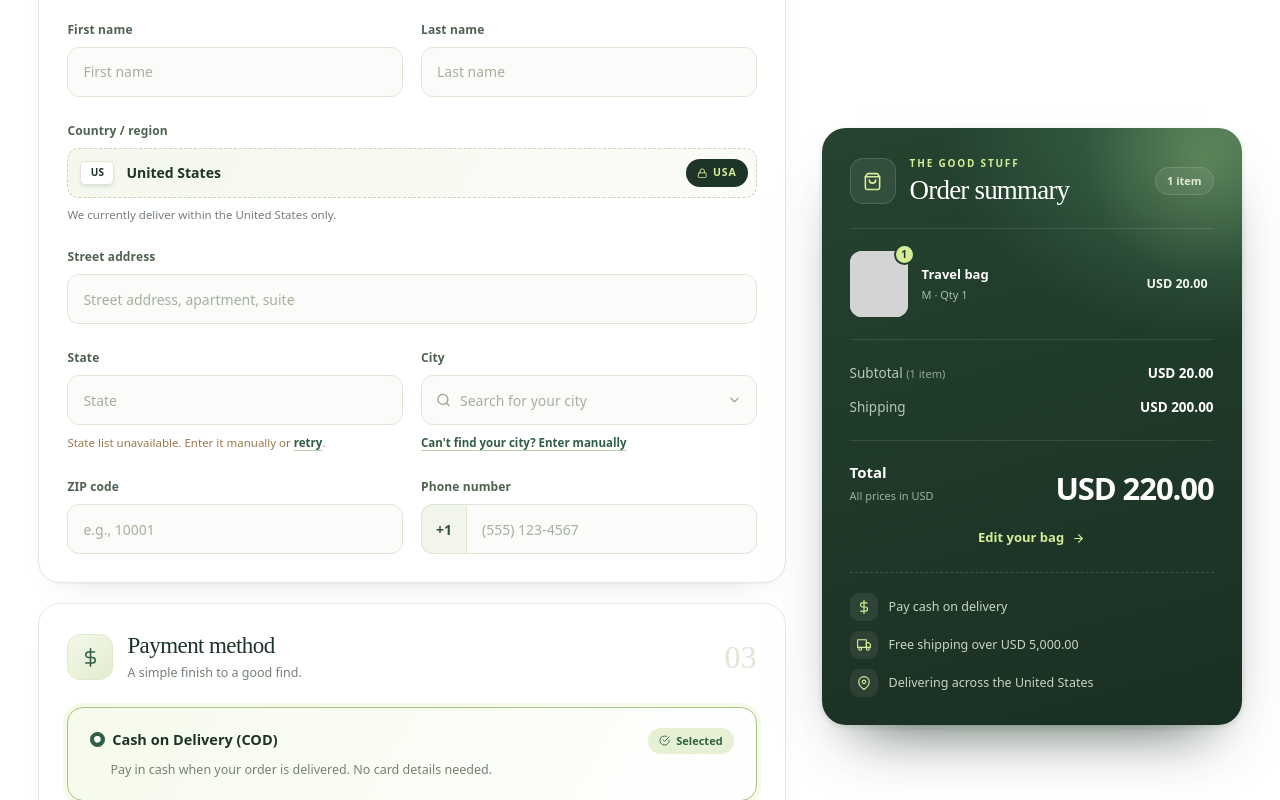
Test case: state API failure falls back to every city in the United States
(page scrolled)
Check: the text "State list unavailable. Enter it manually or retry ." is shown, box [67, 433, 326, 453]
Type "Chi" into the dropdown labelled "City" at (589, 400), box [460, 377, 718, 424]
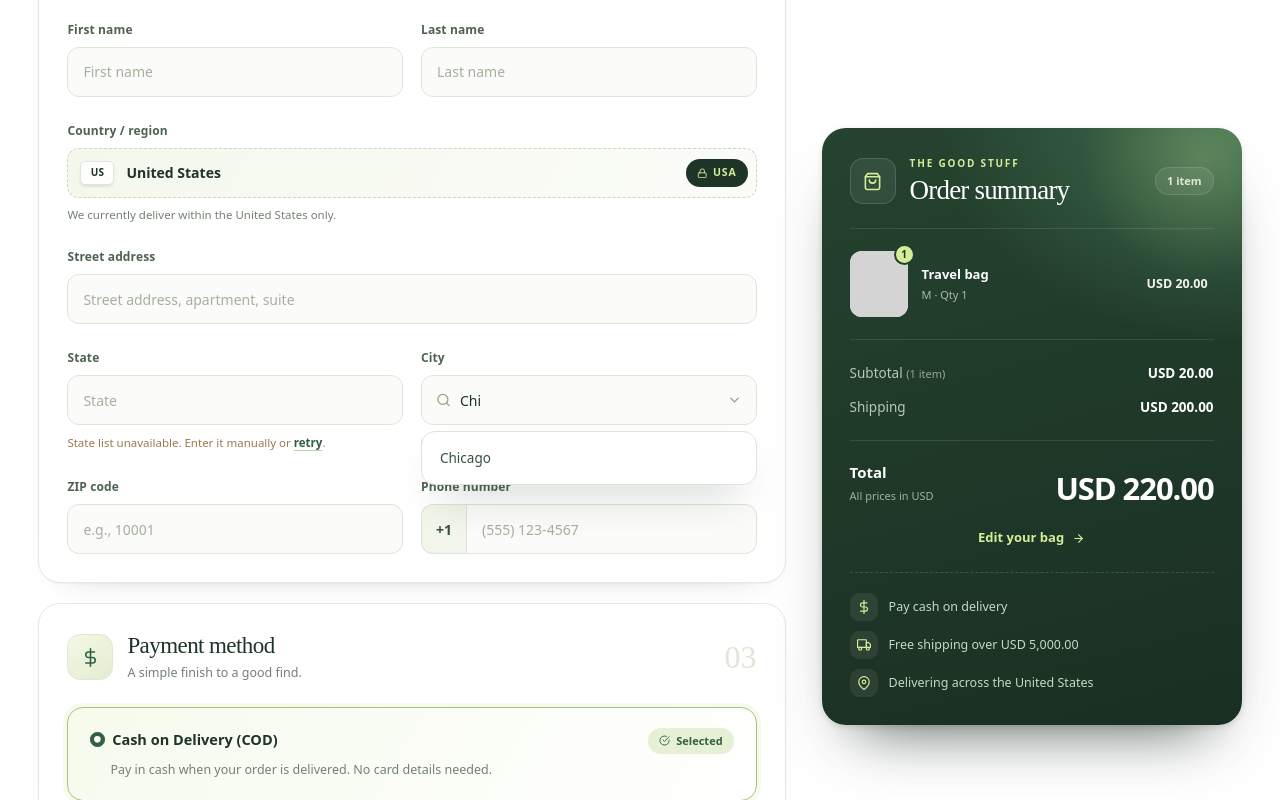
Click the option "Chicago" at (465, 458), box [440, 449, 491, 467]
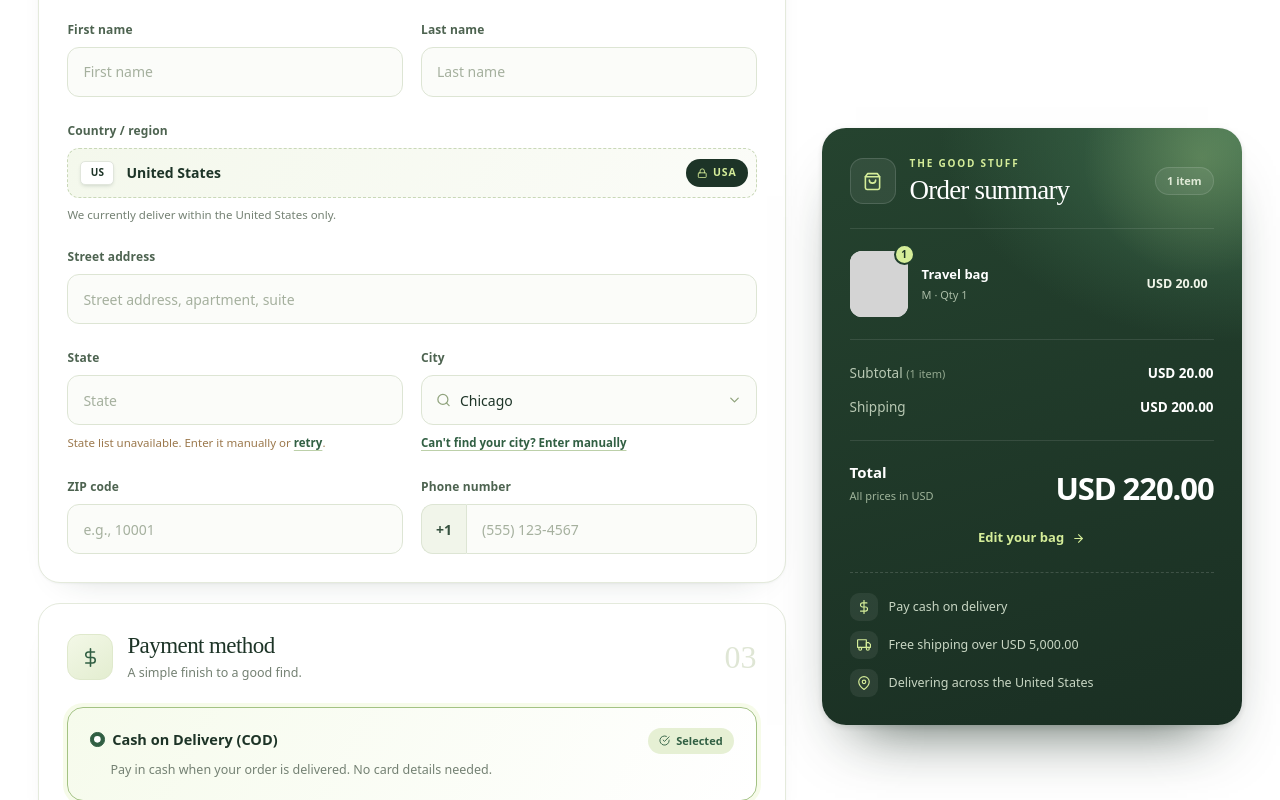
Check: the dropdown labelled "City" holds "Chicago", box [460, 377, 718, 424]
